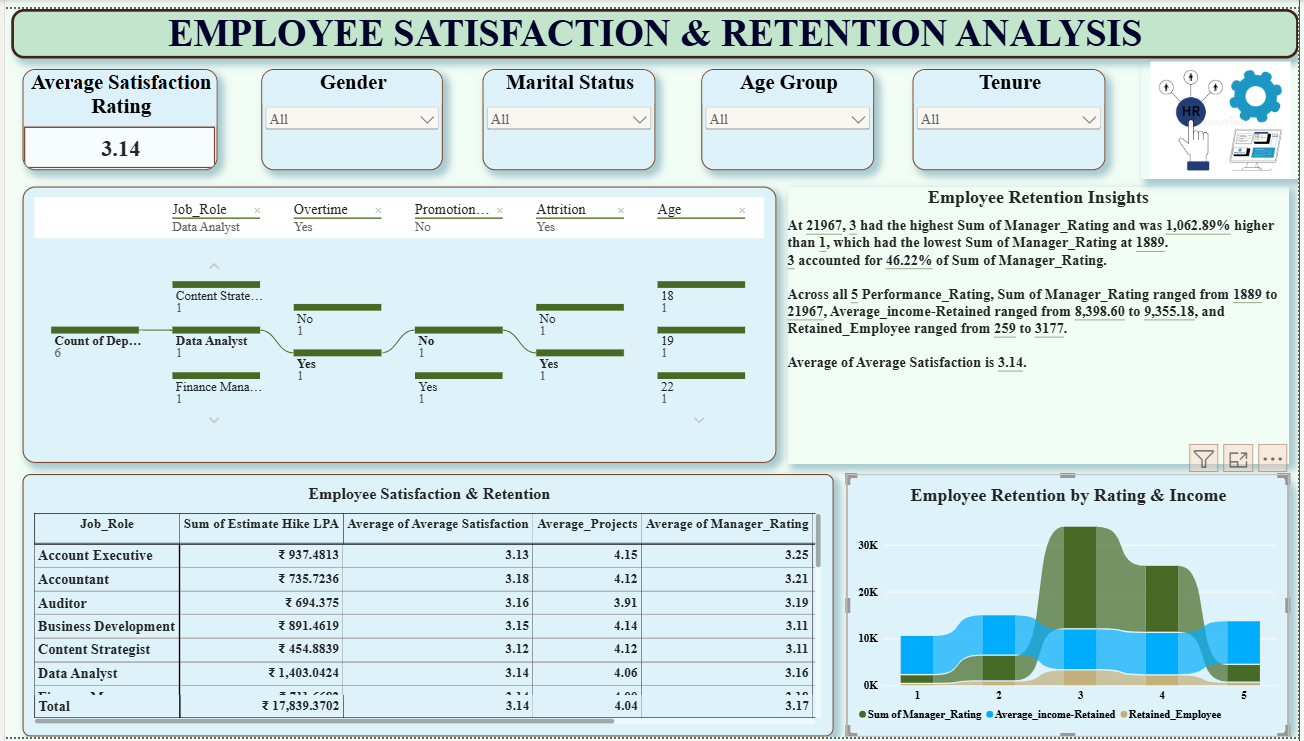

What the dashboard file says about the page in this screenshot:
{"tool":"powerbi","page":{"name":"Employee Satisfaction & Retention Analysis","canvas":[1920,1080],"ordinal":2},"visuals":[{"type":"textbox","box":[9.2,0,1911.3,73.4],"z":0},{"type":"cardVisual","title":"Average Satisfaction Rating","fields":{"Data":["Avg(Table1.Average Satisfaction)"]},"box":[25.7,89.9,289.8,150.4],"z":1000},{"type":"slicer","title":"Gender","fields":{"Values":["Table1.Gender","Table1.Gender"]},"box":[379.7,89.9,269.6,150.4],"z":2000},{"type":"slicer","title":"Marital Status","fields":{"Values":["Table1.Marital_Status"]},"box":[708,89.9,256.8,150.4],"z":3000},{"type":"slicer","title":"Age Group","fields":{"Values":["Attrition Analysis.Age Group"]},"box":[1032.7,89.9,256.8,150.4],"z":4000},{"type":"slicer","title":"Tenure","fields":{"Values":["Attrition Analysis.Tenure"]},"box":[1346.3,89.9,286.1,150.4],"z":5000},{"type":"pivotTable","title":"Employee Satisfaction & Retention","fields":{"Rows":["Table1.Job_Role"],"Values":["Sum(Attrition Analysis.Estimate Hike LPA)","Avg(Table1.Average Satisfaction)","Table1.Average_Projects","Avg(Table1.Manager_Rating)","Table1.Retained_Employee","Table1.Retention_Rate"]},"box":[26,690.2,1204.2,389.6],"z":6000},{"type":"decompositionTreeVisual","fields":{"Analyze":["Count(Table1.Department)"],"ExplainBy":["Table1.Job_Role","Table1.Overtime","Table1.Promotion_Last_5_Years","Table1.Attrition","Table1.Age"]},"box":[26,263.5,1118.8,410.1],"z":7000},{"type":"ribbonChart","title":"Employee Retention by Rating & Income","fields":{"Category":["Table1.Performance_Rating"],"Y":["Sum(Table1.Manager_Rating)","Table1.Average_income-Retained","Table1.Retained_Employee"]},"box":[1249.1,689.7,656.7,390.7],"z":8000},{"type":"textbox","title":"Employee Retention Insights","box":[1161.1,264.1,744.7,410.9],"z":9000},{"type":"image","box":[1685.7,77,234.8,174.3],"z":10000}]}

Visuals, with their boxes in screenshot pixels (x1, y1, x2, y2), scaled from the page's 1920x1080 canvas onto the 1304x741 screenshot:
textbox: bbox=[6, 0, 1303, 50]
"Average Satisfaction Rating" cardVisual: bbox=[17, 62, 214, 165]
"Gender" slicer: bbox=[258, 62, 441, 165]
"Marital Status" slicer: bbox=[481, 62, 655, 165]
"Age Group" slicer: bbox=[701, 62, 876, 165]
"Tenure" slicer: bbox=[914, 62, 1109, 165]
"Employee Satisfaction & Retention" pivotTable: bbox=[18, 474, 836, 740]
decompositionTreeVisual - Count(Table1.Department) x Table1.Job_Role: bbox=[18, 181, 778, 462]
"Employee Retention by Rating & Income" ribbonChart: bbox=[848, 473, 1294, 740]
"Employee Retention Insights" textbox: bbox=[789, 181, 1294, 463]
image: bbox=[1145, 53, 1303, 172]
